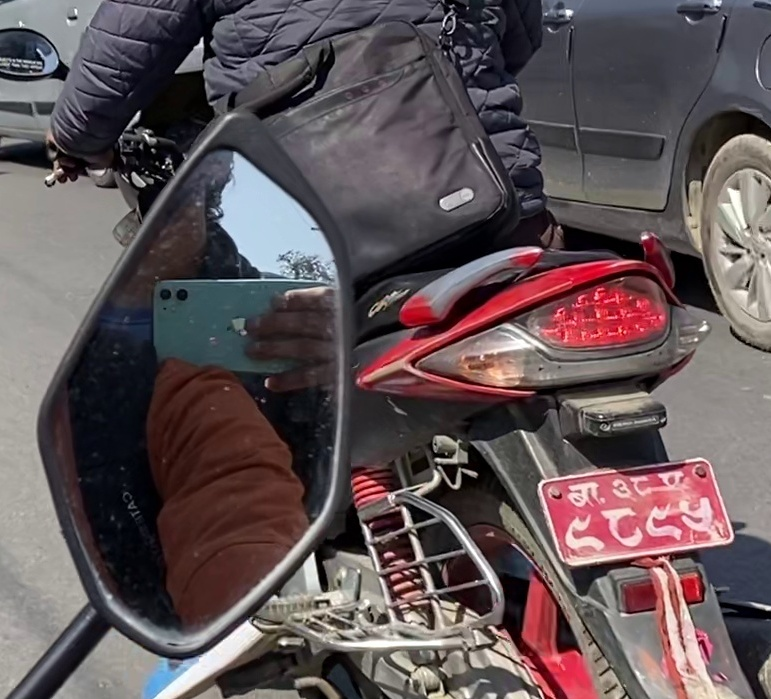license_plate: (540, 456, 736, 567)
